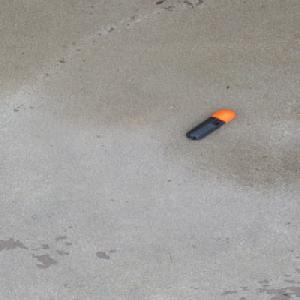PlasticPart: (185, 109, 236, 141)
